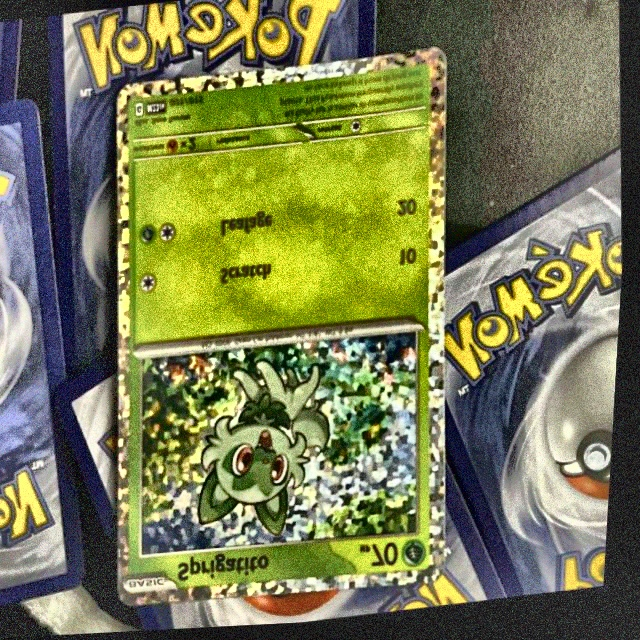card: (116, 50, 454, 609)
